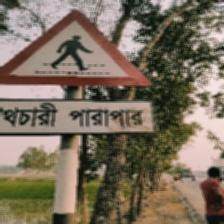Pedestrian-crossing: (0, 8, 156, 136)
